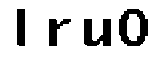0: (117, 6, 152, 47)
l: (14, 4, 33, 53)
r: (46, 17, 74, 49)
u: (80, 16, 116, 50)
